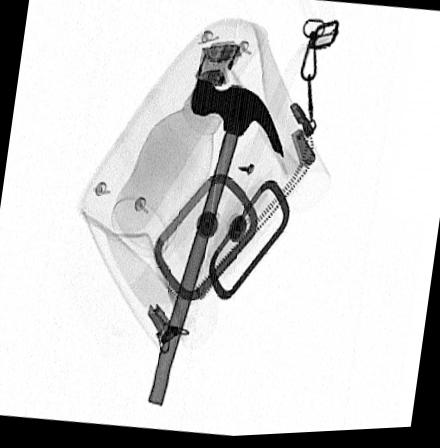Hammer: (149, 80, 285, 407)
